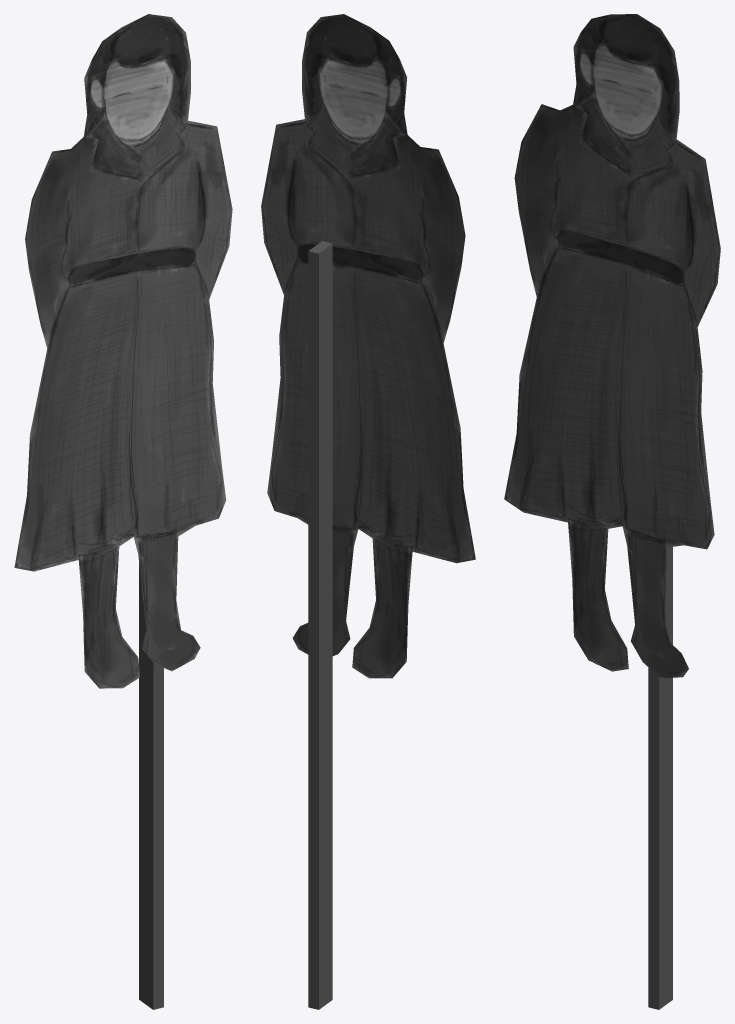
The model's file is Depression_Kid1.fbx.
3 renders of one model, left to right at view 1: azimuth 30°, elevation 25°; view 2: azimuth 150°, elevation 25°; view 3: azimuth 330°, elevation 25°, orthographic.
Visible parts, largest first — view 1: pCube1, pCube2; view 2: pCube1, pCube2; view 3: pCube1, pCube2.
Boxes of the visible parts, <box> form: pCube1: <box>14,14,232,688</box>; pCube2: <box>139,563,163,1009</box>; pCube1: <box>261,14,475,678</box>; pCube2: <box>308,241,332,1009</box>; pCube1: <box>504,14,720,678</box>; pCube2: <box>648,547,672,1009</box>.
Bounding box in the file's own units: 0.009 × 0.0394 × 0.00124.
Materials: 2 (1 with a texture image).
